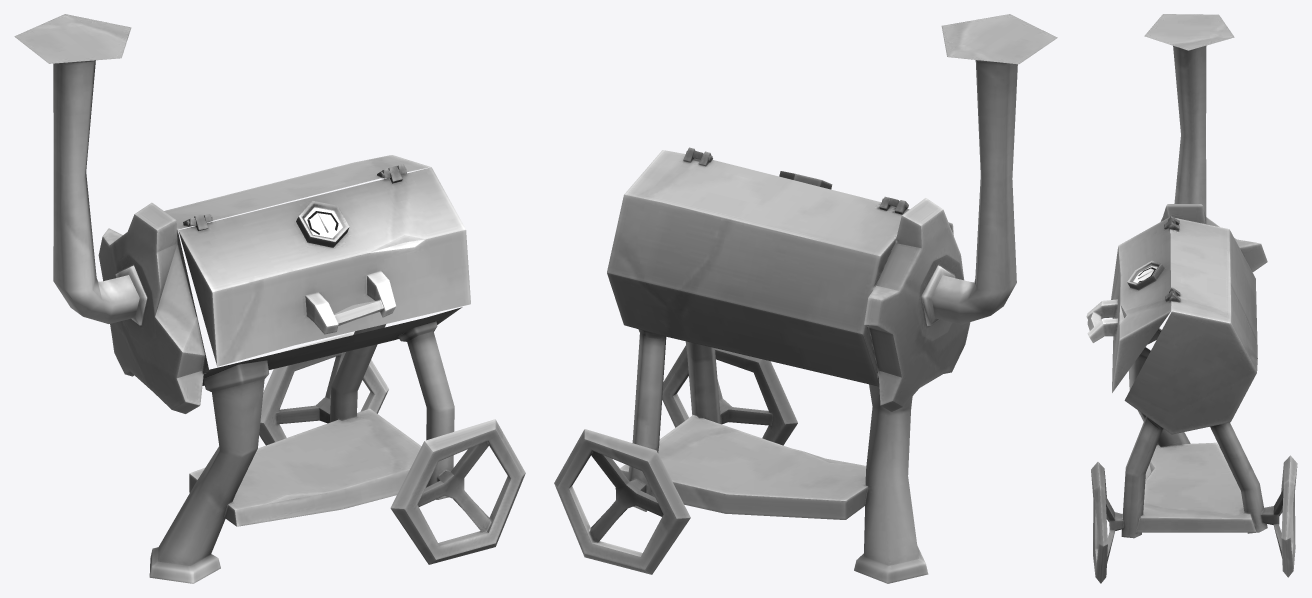
File: obj_smoker01_alt.gltf
3 renders of one model, left to right at view 1: azimuth 30°, elevation 25°; view 2: azimuth 150°, elevation 25°; view 3: azimuth 270°, elevation 25°, orthographic. The views are drawn at different scales.
Visible parts, largest first — view 1: obj_smoker01_alt; view 2: obj_smoker01_alt; view 3: obj_smoker01_alt.
Part boxes in pixels (box(x1,y1,x2,y2)): obj_smoker01_alt: box(14, 14, 525, 583); obj_smoker01_alt: box(554, 14, 1057, 583); obj_smoker01_alt: box(1086, 14, 1297, 583).
Size of what is drawn, in the model's own units: 1.7 by 2.05 by 0.9345.
1 material, 1 textured.
